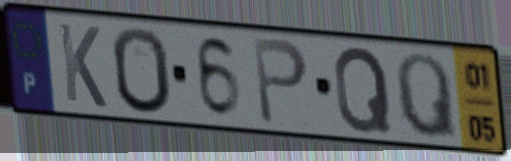6: (192, 34, 244, 121)
K: (55, 19, 110, 111)
O: (108, 24, 175, 118)
P: (249, 34, 312, 128)
Q: (392, 50, 462, 144), (332, 43, 396, 136)
